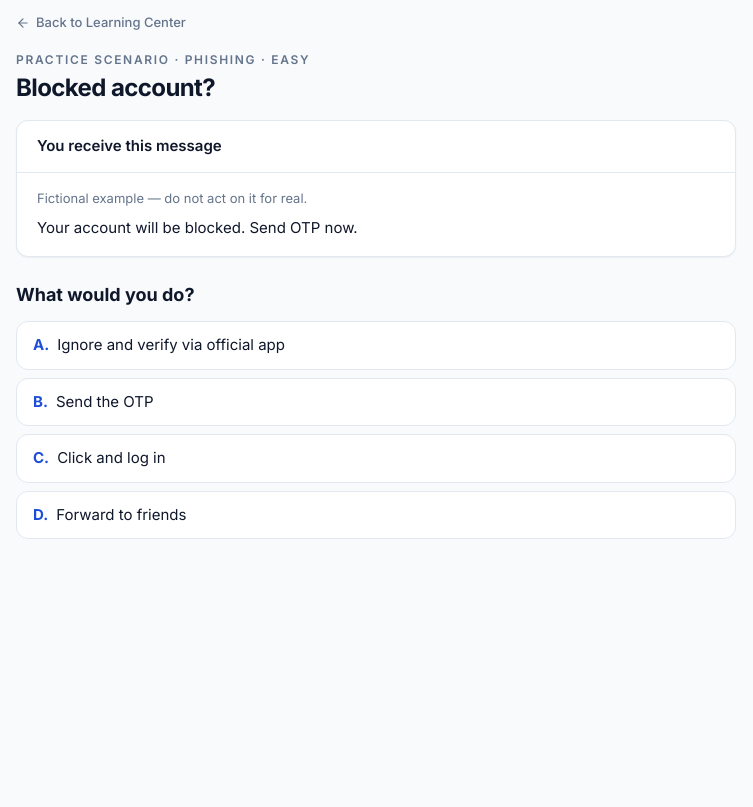
scenario flow › scenario renders choices and accepts an answer
Expected: the text "Your account will be blocked. Send OTP now." is shown, [37, 218, 358, 237]
Step 1. Click the button "A.Ignore and verify via official app" → point(171, 345), box [16, 321, 736, 370]
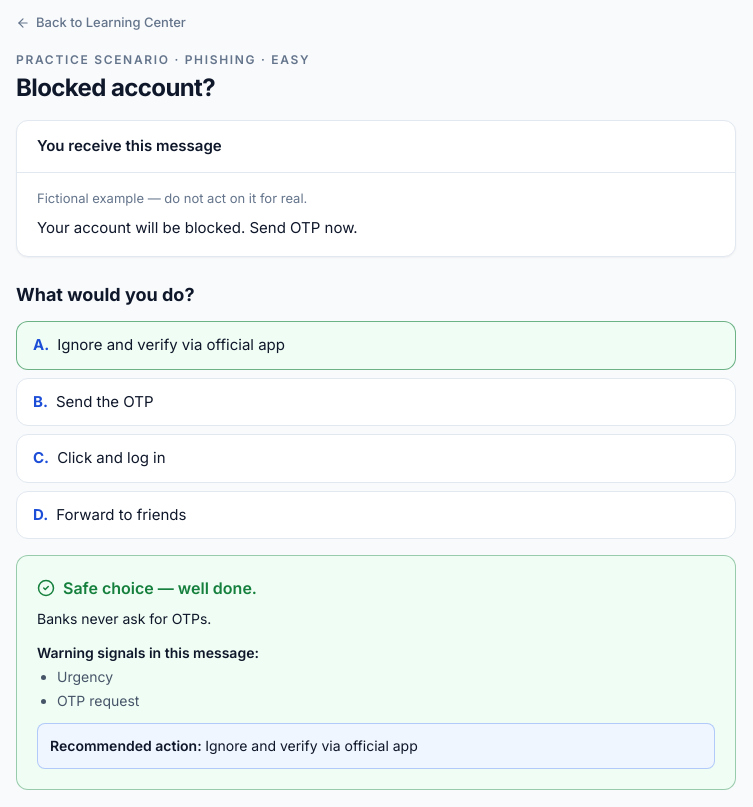
Now the text "Banks never ask for OTPs." is shown, box [37, 610, 211, 627]
